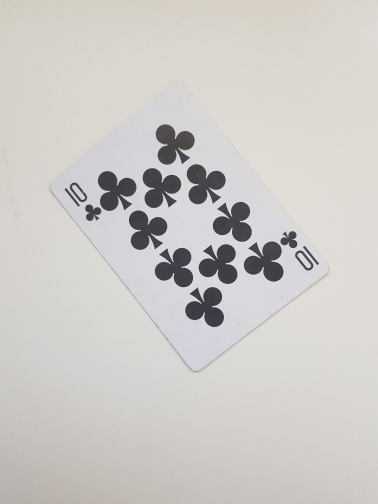ten: (46, 77, 331, 374)
